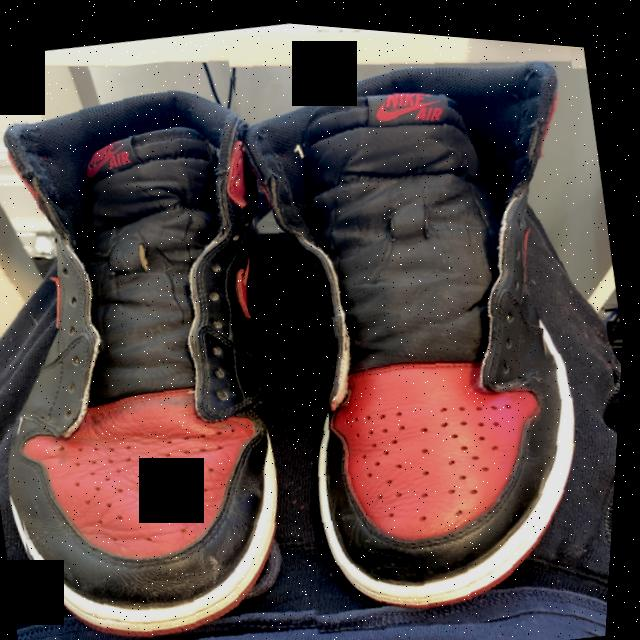shoe: (201, 15, 640, 640), (0, 24, 406, 640)
